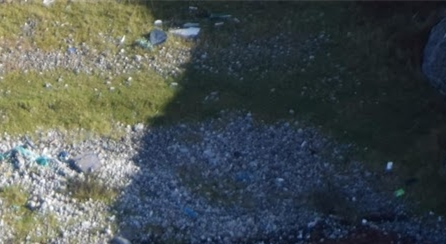net: (1, 140, 51, 170)
scattered_barrel: (355, 155, 423, 228)
together_barrel: (132, 2, 245, 50)
white_in_green: (45, 135, 85, 172)
